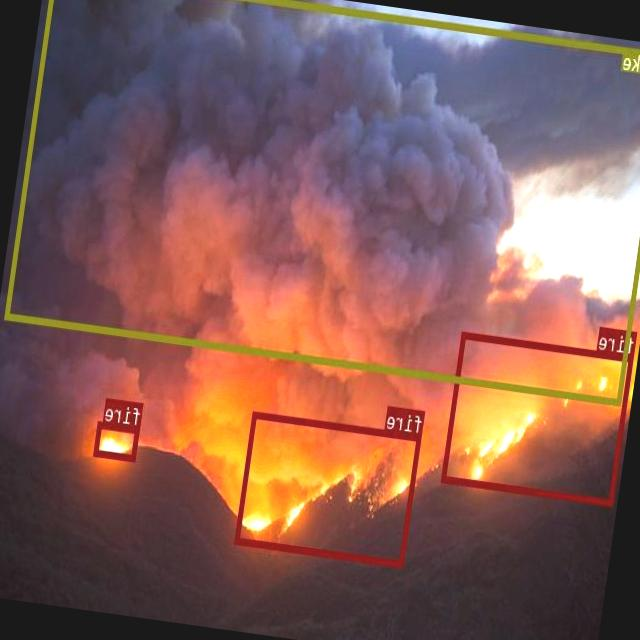fire: (442, 330, 635, 506), (236, 411, 423, 566), (95, 420, 141, 461)
smoke: (5, 0, 640, 404)
